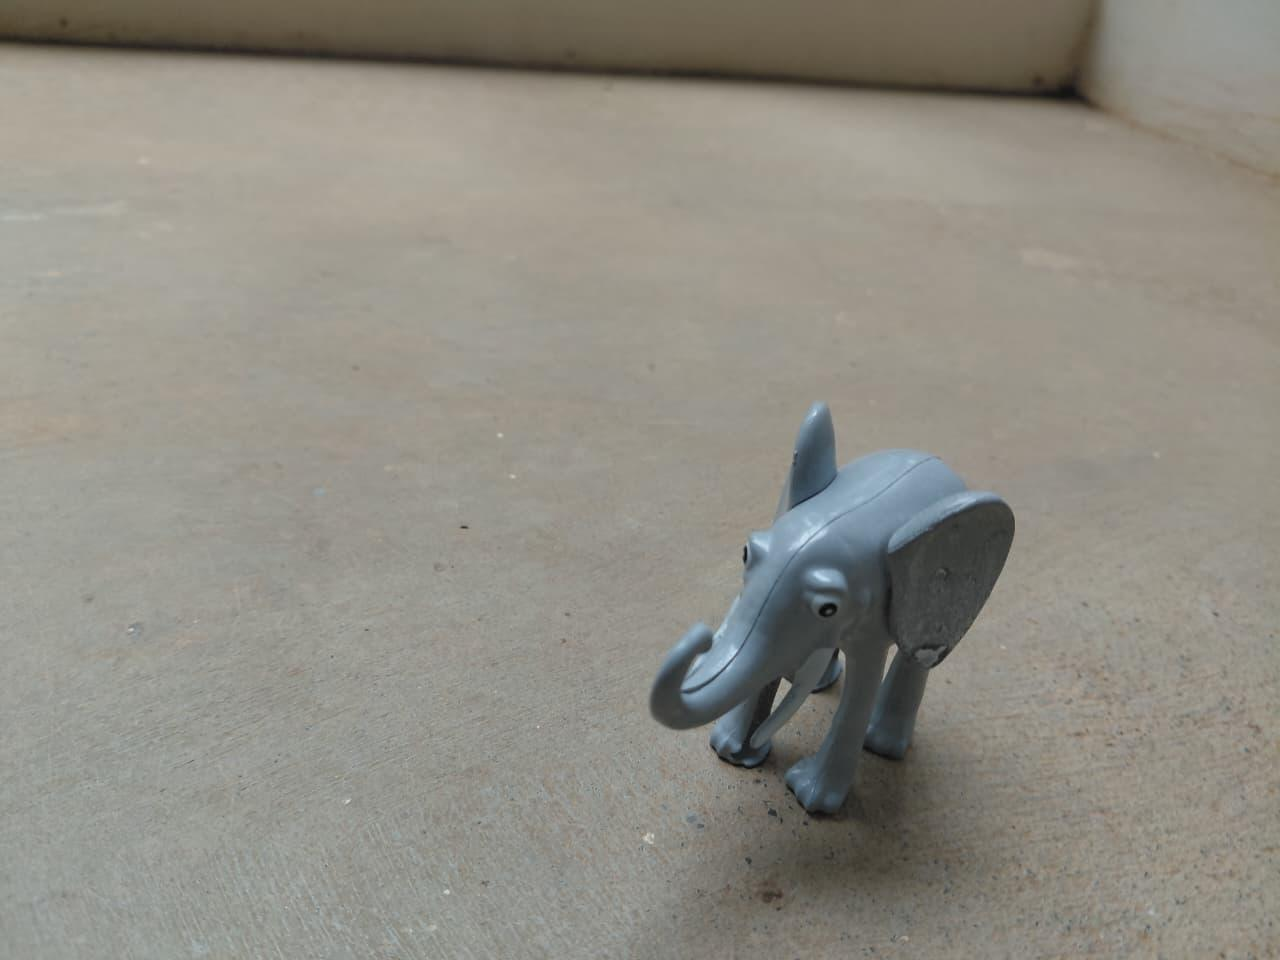elephant: (632, 390, 1024, 826)
